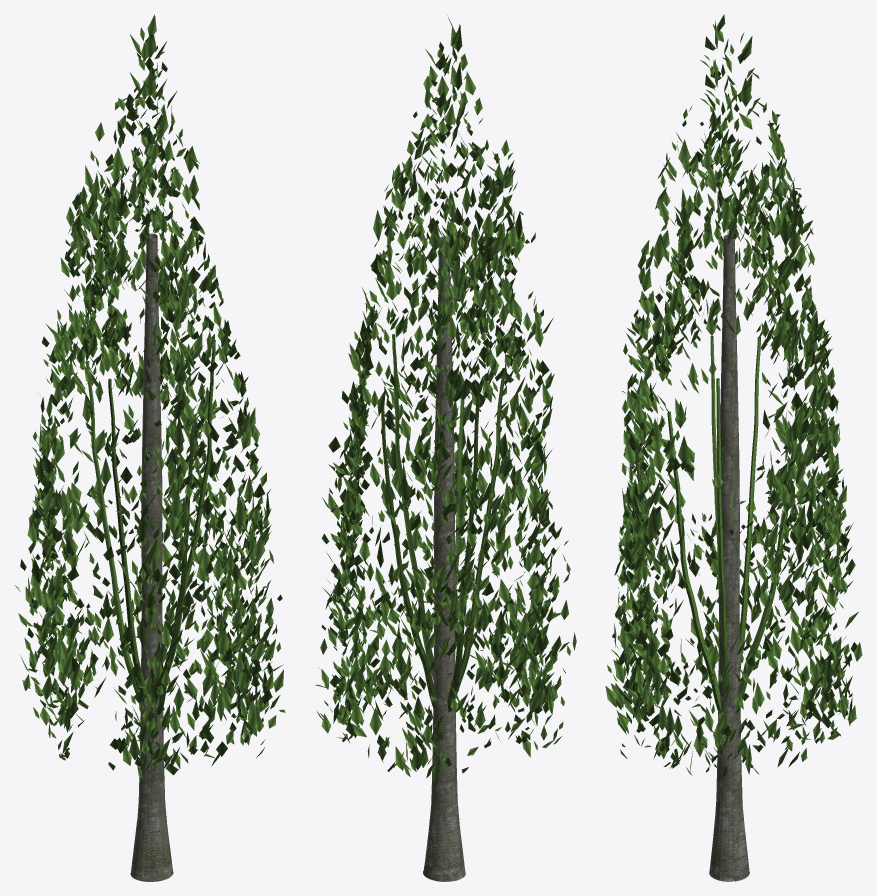
The model's file is tree_21.glb.
3 views of the same model, side by side, from view 1: azimuth 30°, elevation 25°; view 2: azimuth 150°, elevation 25°; view 3: azimuth 270°, elevation 25° (orthographic).
Visible parts, largest first — view 1: MainBuilding; view 2: MainBuilding; view 3: MainBuilding.
Part boxes in pixels (x1,y1,x2,y2): MainBuilding: [15, 14, 285, 881]; MainBuilding: [315, 15, 576, 881]; MainBuilding: [605, 14, 862, 881].
Size of the model in its own units: 2.29 by 9.21 by 2.5.
1 material, 1 textured.
